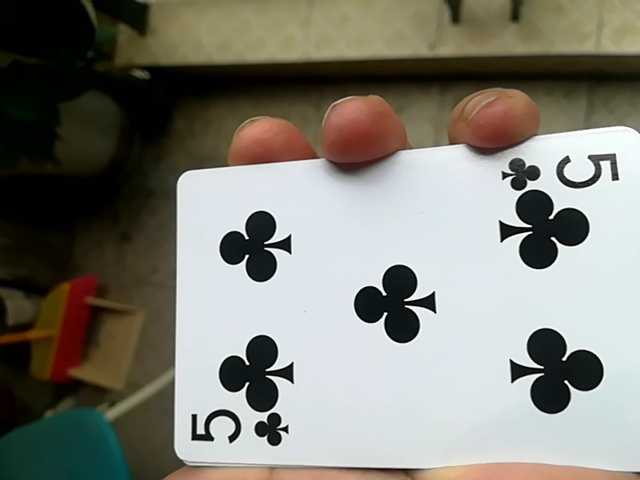mh 5: (156, 136, 637, 480)
